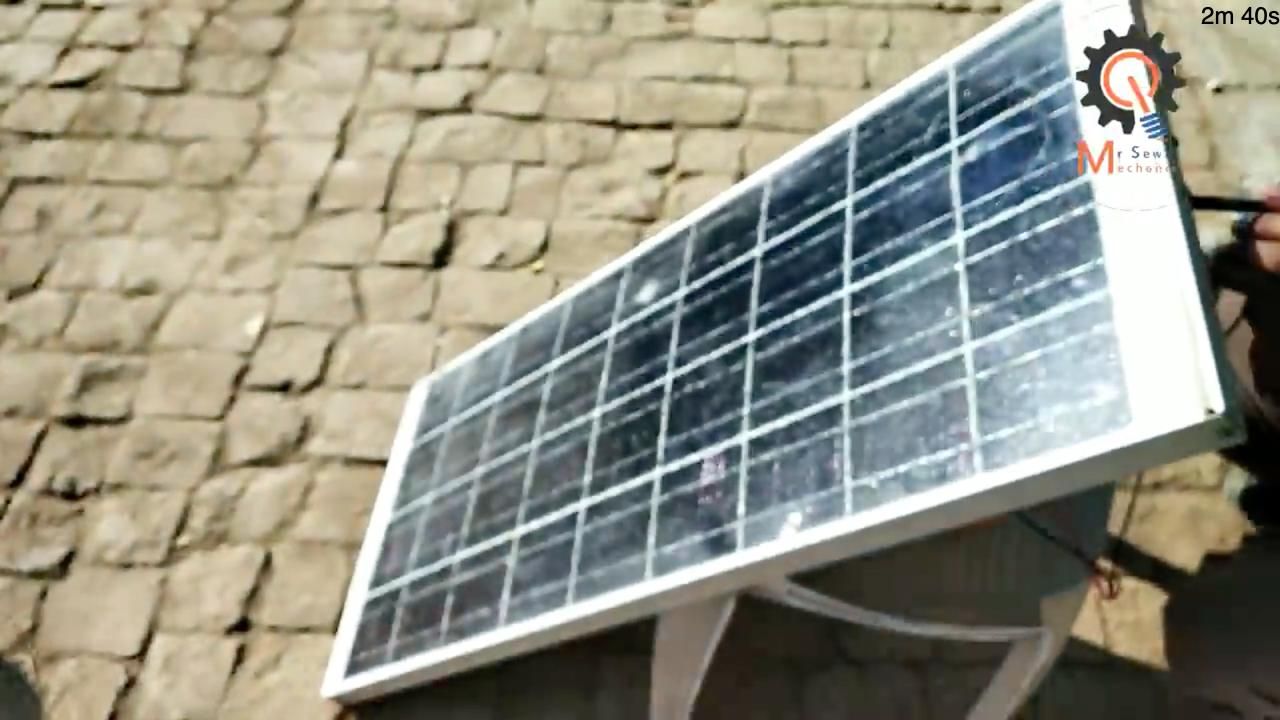Crack: (616, 262, 682, 321)
